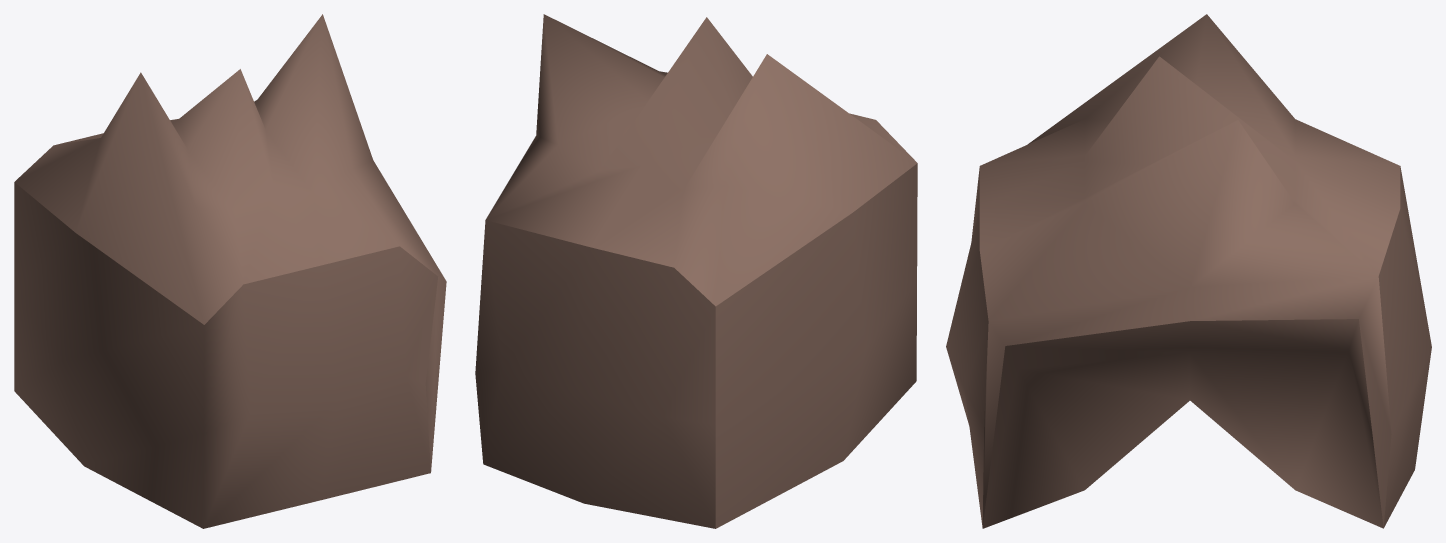
File: SteveWig_v1.fbx
The picture shows the model from 3 angles, left to right: view 1: azimuth 30°, elevation 25°; view 2: azimuth 150°, elevation 25°; view 3: azimuth 270°, elevation 25°; orthographic projection. The views are drawn at different scales.
Parts seen in each view (by area): view 1: pCube1; view 2: pCube1; view 3: pCube1.
Part boxes in pixels (left/top/right/bottom): pCube1: left=14, top=14, right=446, bottom=528; pCube1: left=475, top=14, right=917, bottom=528; pCube1: left=946, top=14, right=1431, bottom=528.
Size of the model in its own units: 1.03 by 1.15 by 1.22.
